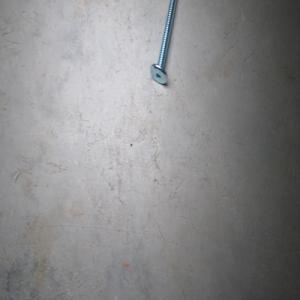Bolt: (149, 0, 176, 84)
